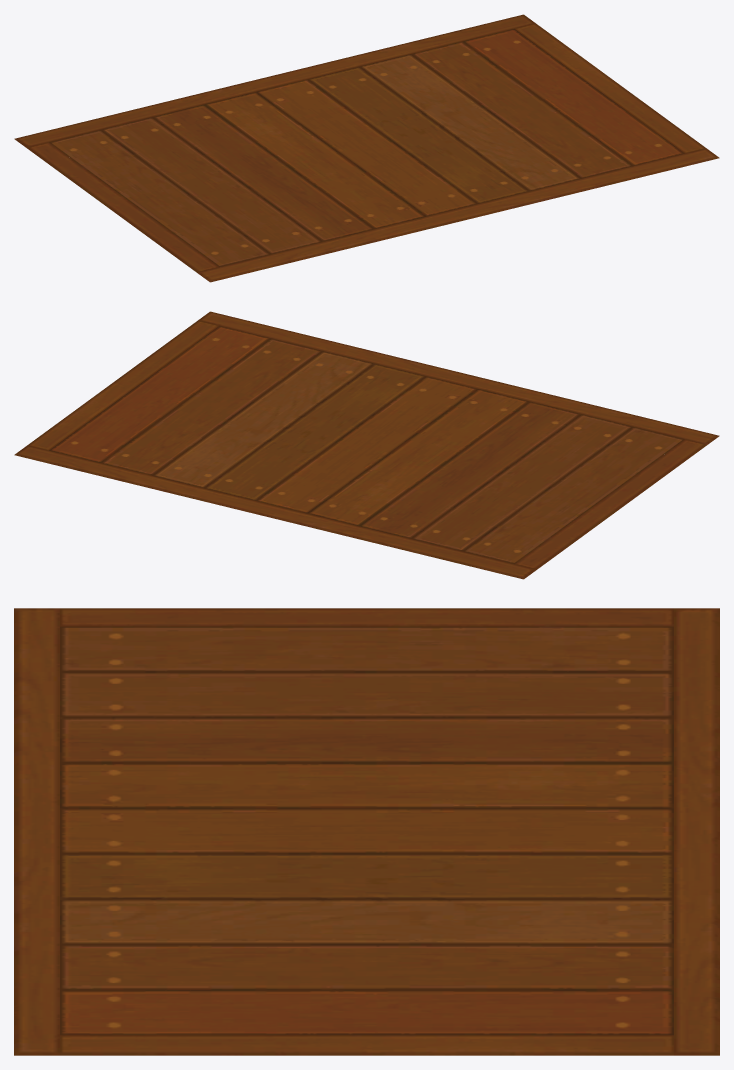
Rendered from RugRectDeckM00.glb.
3 renders of one model, top to bottom at view 1: azimuth 30°, elevation 25°; view 2: azimuth 150°, elevation 25°; view 3: azimuth 270°, elevation 25°, orthographic. The views are drawn at different scales.
Parts seen in each view (by area): view 1: Edge__mMain; view 2: Edge__mMain; view 3: Edge__mMain.
Boxes of the visible parts, x1,y1,x2,y2 form: Edge__mMain: [14, 14, 719, 282]; Edge__mMain: [14, 311, 719, 579]; Edge__mMain: [14, 608, 719, 1055].
Size of the model in its own units: 30 by 0.03 by 20.
Materials: 1 (1 with a texture image).
